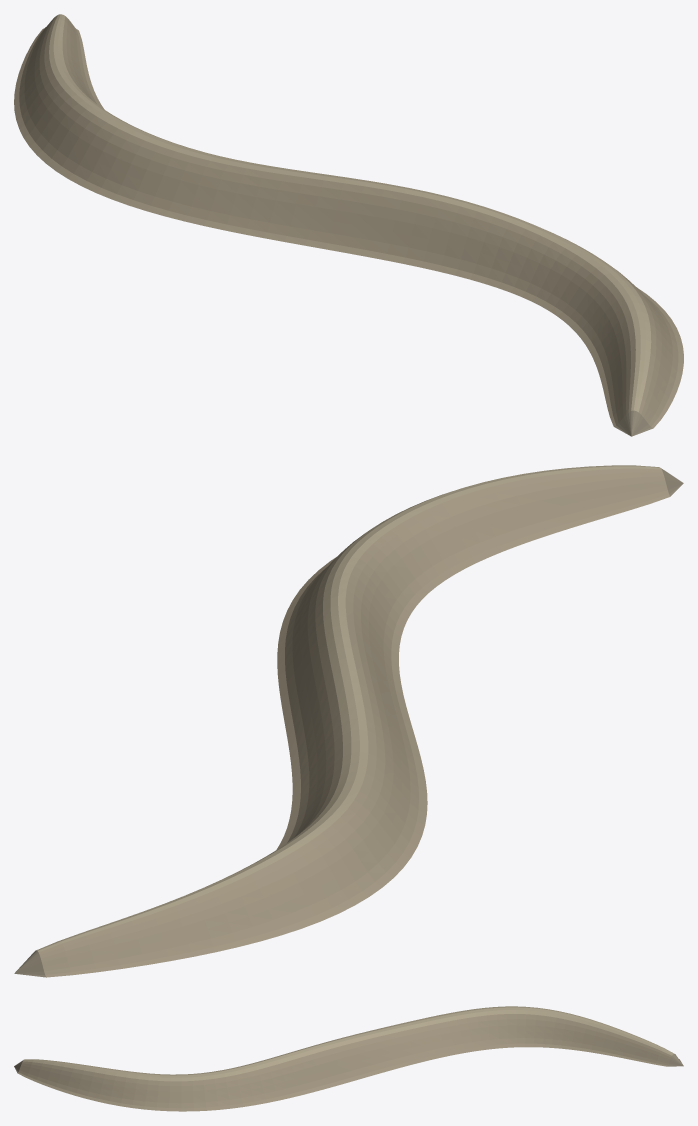
Rendered from esker.glb.
3 views of the same model, one above another, from view 1: azimuth 30°, elevation 25°; view 2: azimuth 150°, elevation 25°; view 3: azimuth 270°, elevation 25° (orthographic). The views are drawn at different scales.
Parts seen in each view (by area): view 1: closed_sinuous_glaciofluvial_sand_gravel_ridge; view 2: closed_sinuous_glaciofluvial_sand_gravel_ridge; view 3: closed_sinuous_glaciofluvial_sand_gravel_ridge.
Part boxes in pixels (x1,y1,x2,y2): closed_sinuous_glaciofluvial_sand_gravel_ridge: [14, 14, 683, 436]; closed_sinuous_glaciofluvial_sand_gravel_ridge: [14, 465, 683, 977]; closed_sinuous_glaciofluvial_sand_gravel_ridge: [14, 1006, 683, 1111].
Bounding box in the file's own units: 225 × 34.76 × 700.
